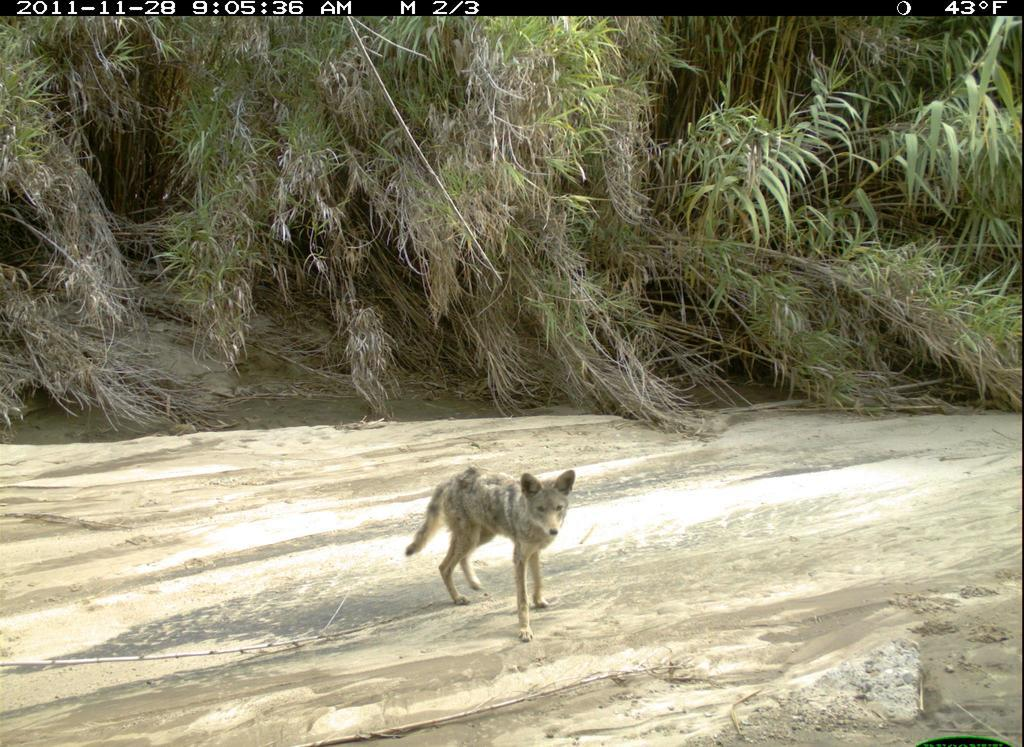coyote: (399, 457, 621, 641)
